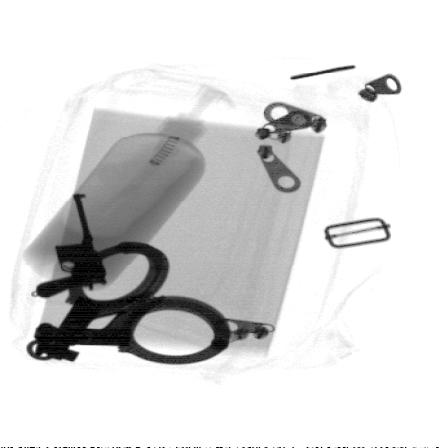Gun: (35, 193, 108, 300)
HandCuffs: (21, 237, 232, 369)
